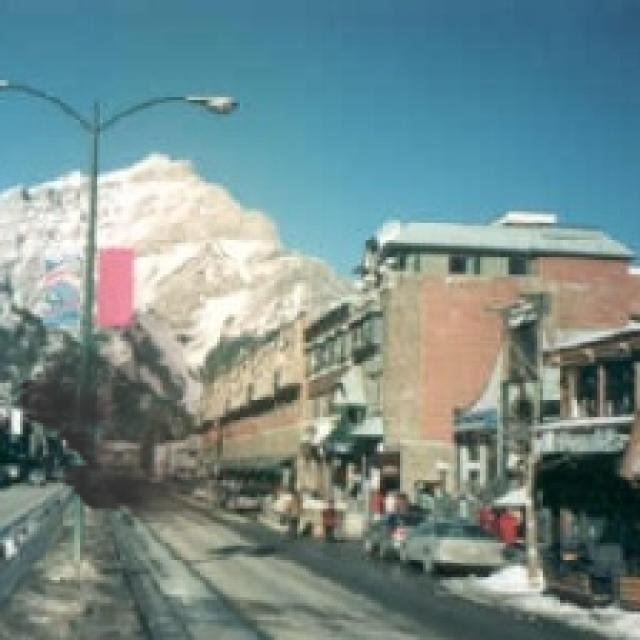Smoke: (6, 299, 278, 532)
